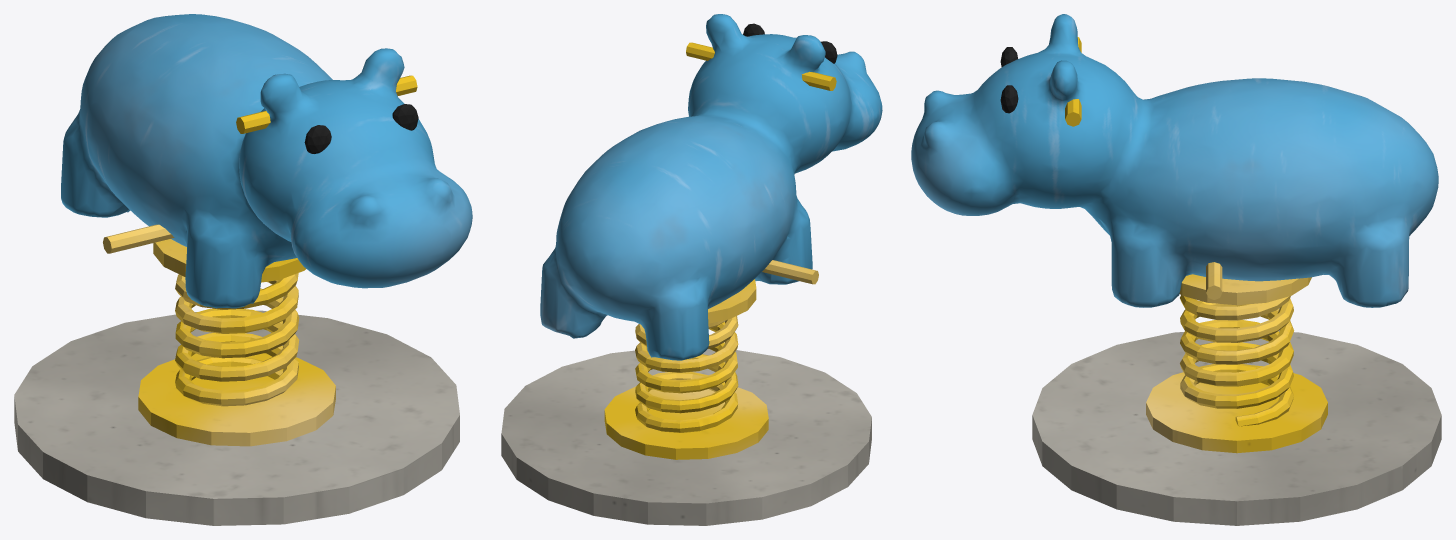
The model's file is SpringHippo.gltf.
The picture shows the model from 3 angles, left to right: view 1: azimuth 30°, elevation 25°; view 2: azimuth 150°, elevation 25°; view 3: azimuth 270°, elevation 25°; orthographic projection. The views are drawn at different scales.
Visible parts, largest first — view 1: SpringHippo; view 2: SpringHippo; view 3: SpringHippo.
Part boxes in pixels (x1,y1,x2,y2): SpringHippo: (14,14,472,525); SpringHippo: (501,14,882,525); SpringHippo: (911,14,1441,525).
Bounding box in the file's own units: 0.9 × 0.9704 × 1.17.
Materials: 4 (4 with a texture image).
